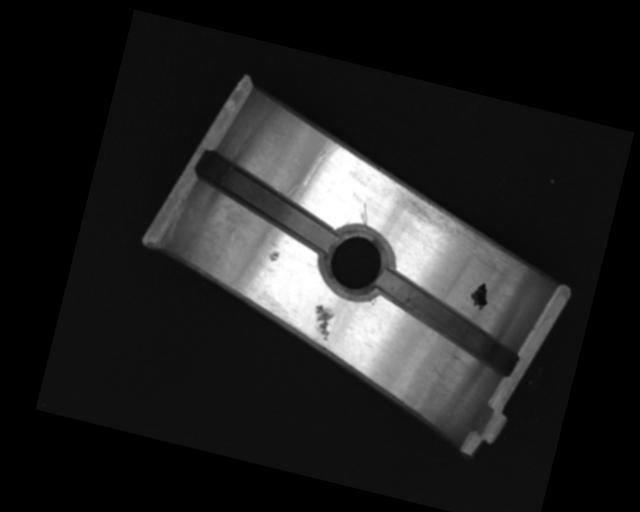blot: (467, 279, 492, 313)
bruise: (306, 302, 336, 342), (266, 247, 280, 264)
gap: (364, 266, 531, 377), (185, 150, 346, 253)
hole: (313, 216, 401, 305)
nick: (300, 136, 340, 192), (356, 202, 372, 228)
scratch: (393, 189, 530, 269)
